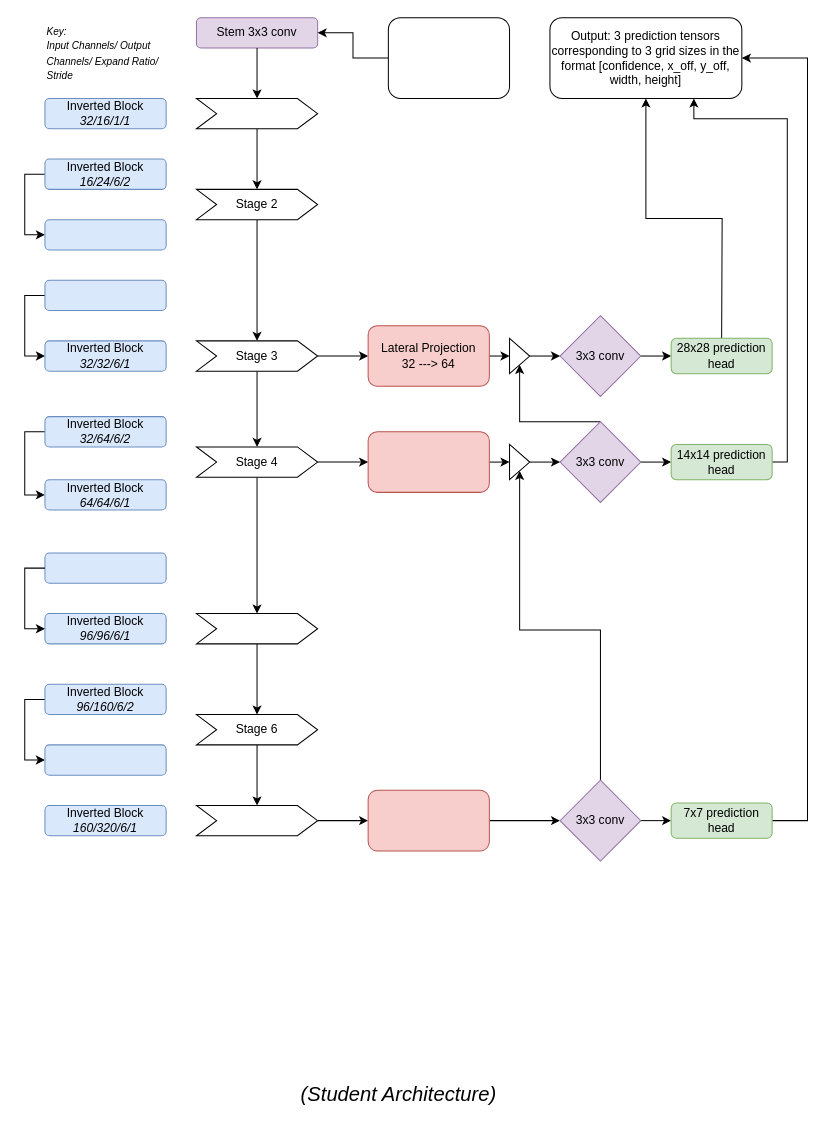
This 833x1126 diagram has some shape labels left out. The shapes that lost their labels are listed below. From the top down, each one's centre as x and y in pixels, then its label:
pixel 448 57: Input: Preprocessed 224x224 image tensor
pixel 256 113: Stage 1
pixel 105 234: Inverted Block 24/24/6/1
pixel 105 295: Inverted Block 24/32/6/2
pixel 428 461: Lateral Projection 64 ---> 64
pixel 105 567: Inverted Block 64/96/6/2
pixel 256 628: Stage 5
pixel 105 759: Inverted Block 160/160/6/1
pixel 256 820: Stage 7
pixel 428 820: Lateral Projection 320 ---> 64
